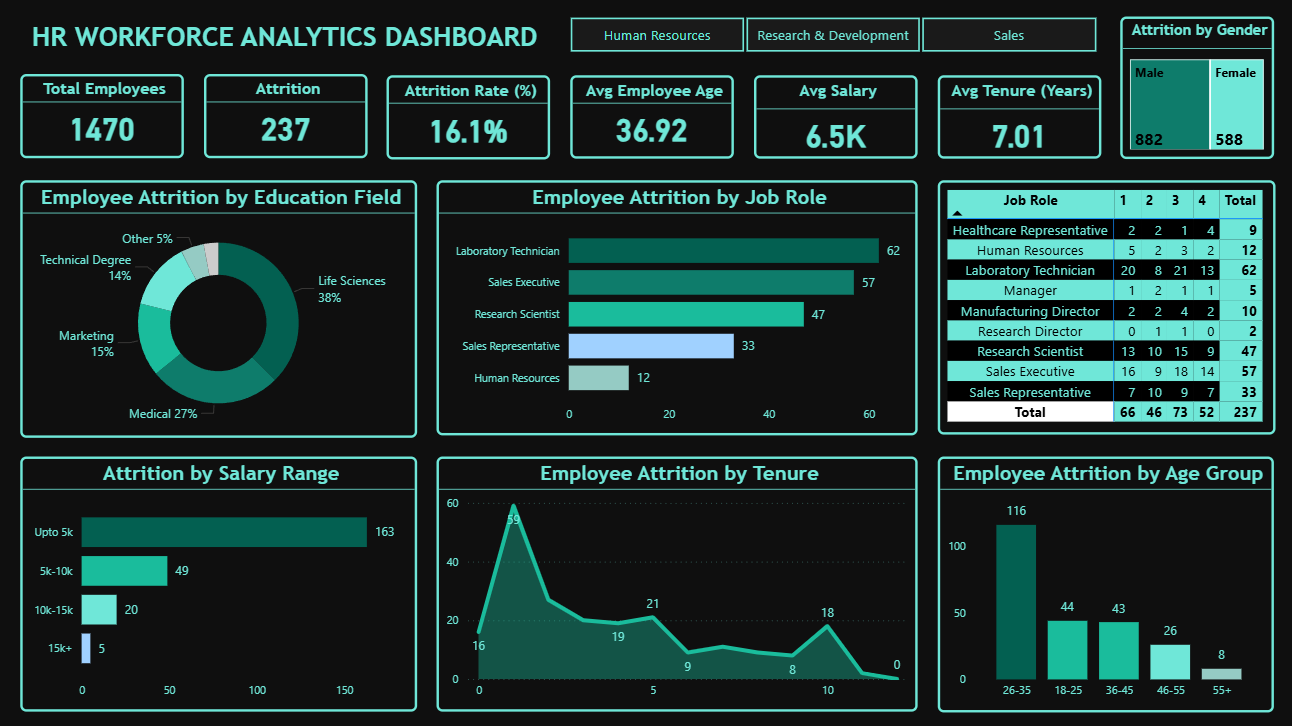

Layout of this report page (visuals, bound fields, positions):
{"tool":"powerbi","page":{"name":"HR Workforce Analytics Dashboard","canvas":[1280,720],"ordinal":0},"visuals":[{"type":"card","title":"Total Employees","fields":{"Values":["HR_Analytics.Total Employees"]},"box":[20.5,73.6,161.7,83.2],"z":0},{"type":"card","title":"Avg Employee Age","fields":{"Values":["Avg(HR_Analytics.Age)"]},"box":[564.6,74.8,161.7,82],"z":1000},{"type":"card","title":"Attrition ","fields":{"Values":["HR_Analytics.Employee left"]},"box":[202.7,73.6,161.7,83.2],"z":2000},{"type":"card","title":"Attrition Rate (%)","fields":{"Values":["HR_Analytics.Attrition Rate"]},"box":[382.4,74.8,161.7,83.2],"z":3000},{"type":"card","title":"Avg Salary","fields":{"Values":["Avg(HR_Analytics.MonthlyIncome)"]},"box":[745.6,74.8,161.7,82],"z":4000},{"type":"donutChart","title":"Employee Attrition by Education Field","fields":{"Category":["HR_Analytics.EducationField"],"Y":["Sum(HR_Analytics.Attrition Count)"]},"box":[20.5,178.6,392.1,254.6],"z":5000},{"type":"columnChart","title":"Employee Attrition by Age Group","fields":{"Category":["HR_Analytics.AgeGroup"],"Y":["Sum(HR_Analytics.Attrition Count)"]},"box":[926.9,451.3,332.1,252.6],"z":6000},{"type":"clusteredBarChart","title":"Attrition by Salary Range","fields":{"Y":["Sum(HR_Analytics.Attrition Count)"],"Category":["HR_Analytics.SalarySlab"]},"box":[20.5,452.4,392.1,252.1],"z":7000},{"type":"areaChart","title":"Employee Attrition by Tenure","fields":{"Category":["HR_Analytics.YearsAtCompany"],"Y":["Sum(HR_Analytics.Attrition Count)"]},"box":[431.9,452.4,475.3,252.1],"z":8000},{"type":"clusteredBarChart","title":"Employee Attrition by Job Role","fields":{"Category":["HR_Analytics.JobRole"],"Y":["Sum(HR_Analytics.Attrition Count)"]},"box":[431.9,178.6,475.3,252.1],"z":9000},{"type":"treemap","title":"Attrition by Gender","fields":{"Group":["HR_Analytics.Gender"],"Values":["CountNonNull(HR_Analytics.Attrition)"]},"box":[1107.5,16.9,152,141.2],"z":10000},{"type":"card","title":"Avg Tenure (Years)","fields":{"Values":["Avg(HR_Analytics.YearsAtCompany)"]},"box":[926.5,74.8,161.7,82],"z":11000},{"type":"slicer","fields":{"Values":["HR_Analytics.Department"]},"box":[538.5,14.1,569.2,43.6],"z":12000},{"type":"pivotTable","fields":{"Rows":["HR_Analytics.JobRole"],"Columns":["HR_Analytics.JobSatisfaction"],"Values":["Sum(HR_Analytics.Attrition Count)"]},"box":[926.9,179.5,333.3,251.3],"z":13000},{"type":"textbox","box":[0,17.3,564.2,55.6],"z":14000}]}

Visuals, with their boxes in screenshot pixels (x1, y1, x2, y2), scaled from the page's 1280x720 canvas onto the 1292x726 screenshot:
"Total Employees" card: 21:74:184:158
"Avg Employee Age" card: 570:75:733:158
"Attrition " card: 205:74:368:158
"Attrition Rate (%)" card: 386:75:549:159
"Avg Salary" card: 753:75:916:158
"Employee Attrition by Education Field" donutChart: 21:180:416:437
"Employee Attrition by Age Group" columnChart: 936:455:1271:710
"Attrition by Salary Range" clusteredBarChart: 21:456:416:710
"Employee Attrition by Tenure" areaChart: 436:456:916:710
"Employee Attrition by Job Role" clusteredBarChart: 436:180:916:434
"Attrition by Gender" treemap: 1118:17:1271:159
"Avg Tenure (Years)" card: 935:75:1098:158
slicer - HR_Analytics.Department: 544:14:1118:58
pivotTable - HR_Analytics.JobRole x HR_Analytics.JobSatisfaction: 936:181:1272:434
textbox: 0:17:569:74
